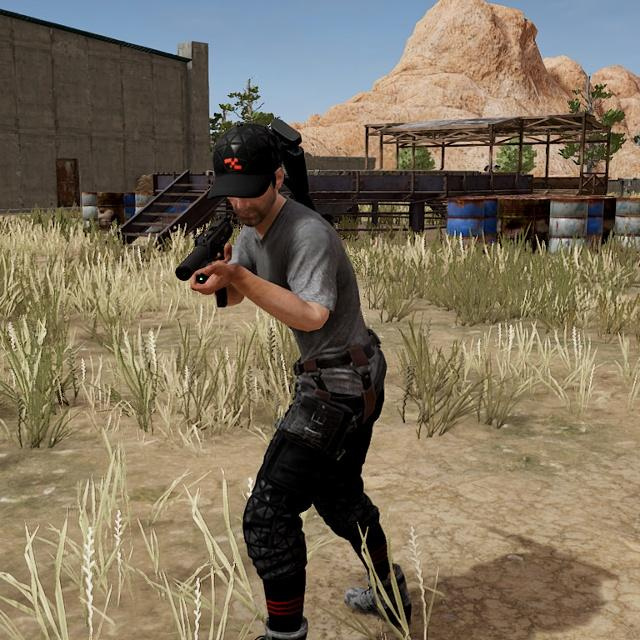head: (212, 122, 288, 231)
people: (176, 121, 419, 640)
